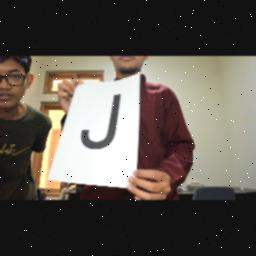j: (72, 90, 128, 152)
